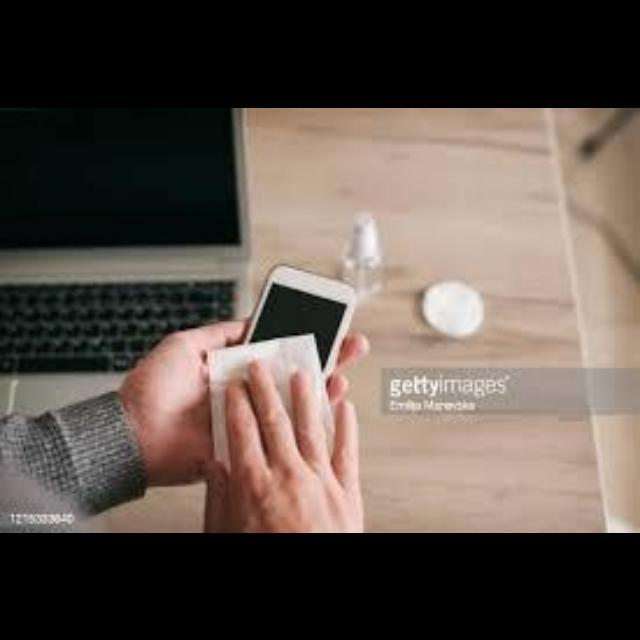PhoneUse: (213, 266, 359, 456)
